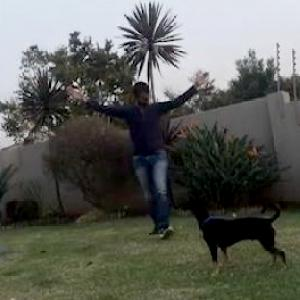takeoff: (60, 62, 207, 230)
